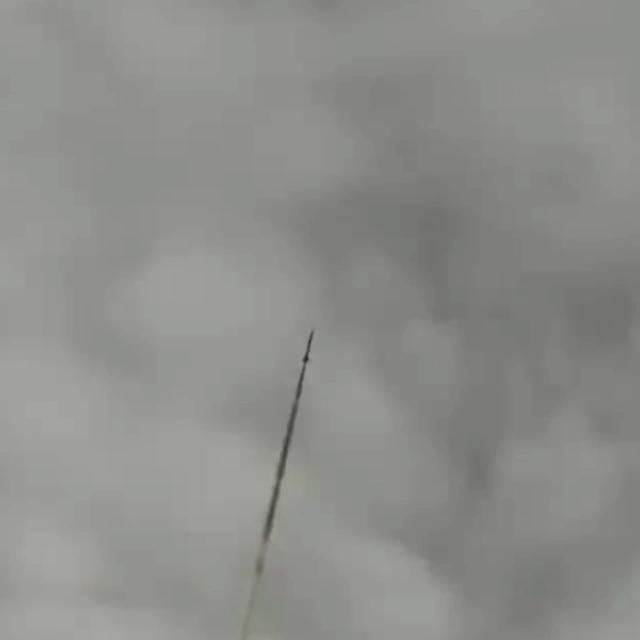smoke_trail_with_rocket: (235, 329, 315, 640)
